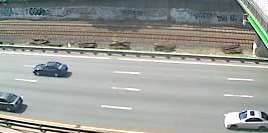car: (220, 107, 268, 132), (31, 59, 72, 79)
